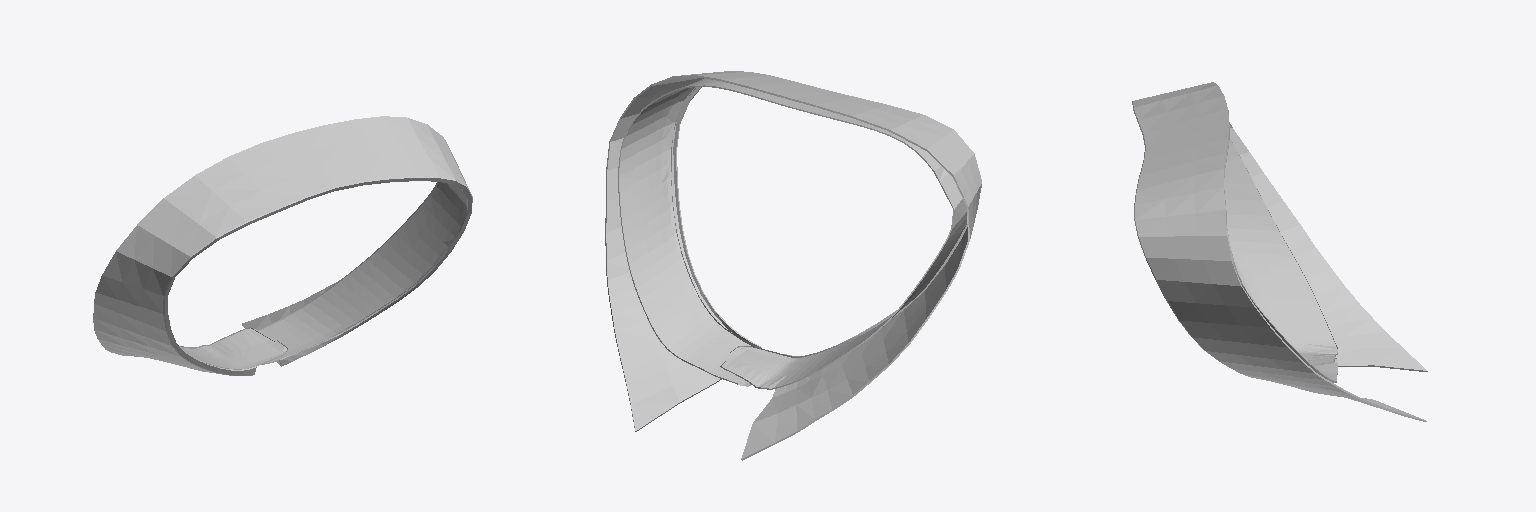
Rendered from low_button_down.obj.
3 views of the same model, side by side, from view 1: azimuth 30°, elevation 25°; view 2: azimuth 150°, elevation 25°; view 3: azimuth 270°, elevation 25° (orthographic).
Parts seen in each view (by area): view 1: 12_low_Buton_down, inner_collar_out; view 2: 12_low_Buton_down, inner_collar_out; view 3: 12_low_Buton_down, inner_collar_out.
Part boxes in pixels (x1,y1,x2,y2): 12_low_Buton_down: (93,116,472,375); inner_collar_out: (179,182,466,369); 12_low_Buton_down: (605,71,981,460); inner_collar_out: (618,78,966,389); 12_low_Buton_down: (1132,82,1427,421); inner_collar_out: (1224,128,1337,382).
Bounding box in the file's own units: 17.81 × 13.32 × 12.79.